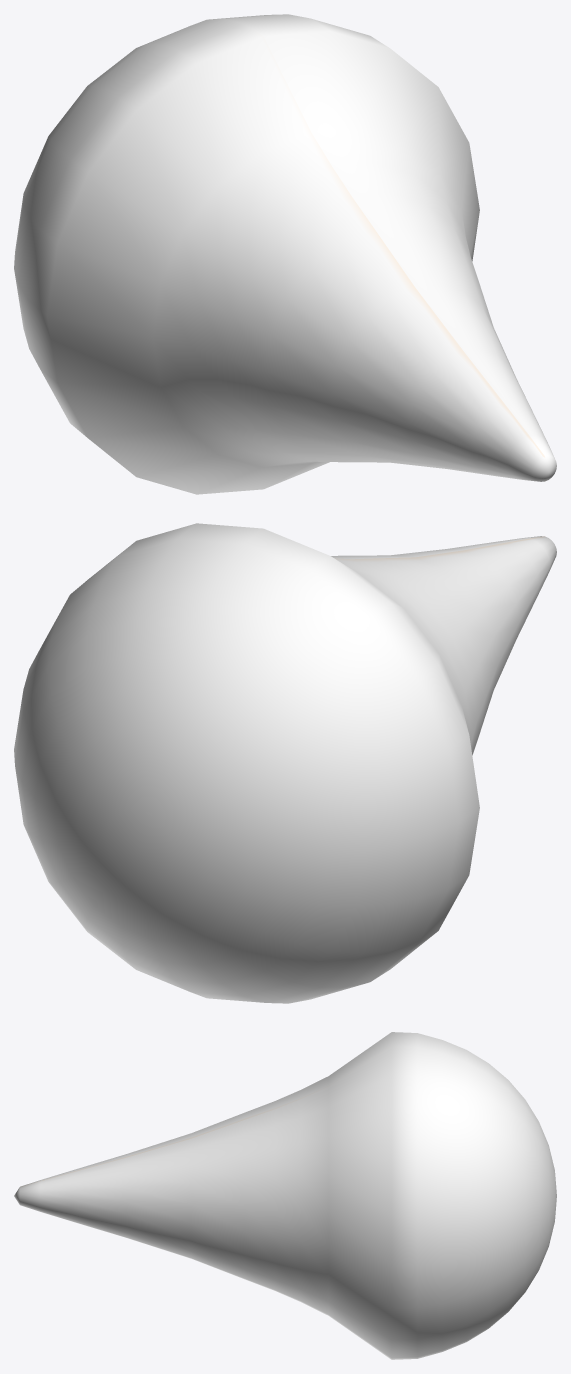
File: SETTunnel.fbx
3 views of the same model, one above another, from view 1: azimuth 30°, elevation 25°; view 2: azimuth 150°, elevation 25°; view 3: azimuth 270°, elevation 25° (orthographic). The views are drawn at different scales.
Parts seen in each view (by area): view 1: SETTunnel; view 2: SETTunnel; view 3: SETTunnel.
Part boxes in pixels (x1=…): SETTunnel: x1=14, y1=14, x2=556, y2=494; SETTunnel: x1=14, y1=523, x2=556, y2=1003; SETTunnel: x1=14, y1=1032, x2=556, y2=1359.
Size of the model in its own units: 45.09 by 45.09 by 74.1.
